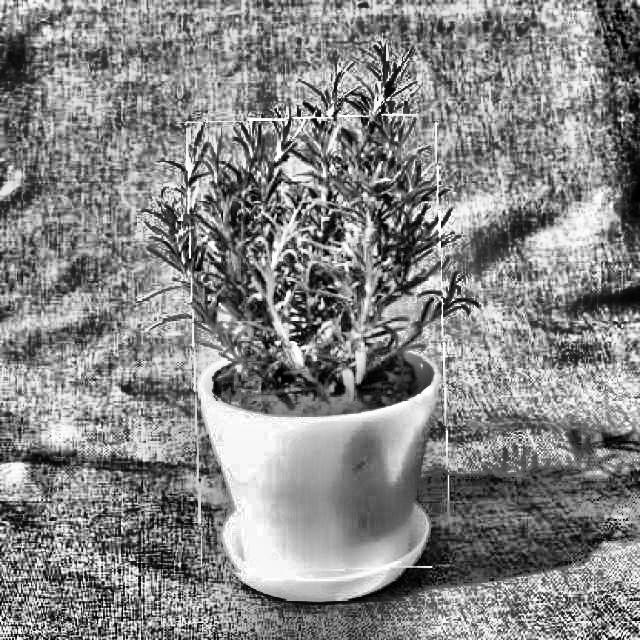plants: (191, 116, 446, 573)
